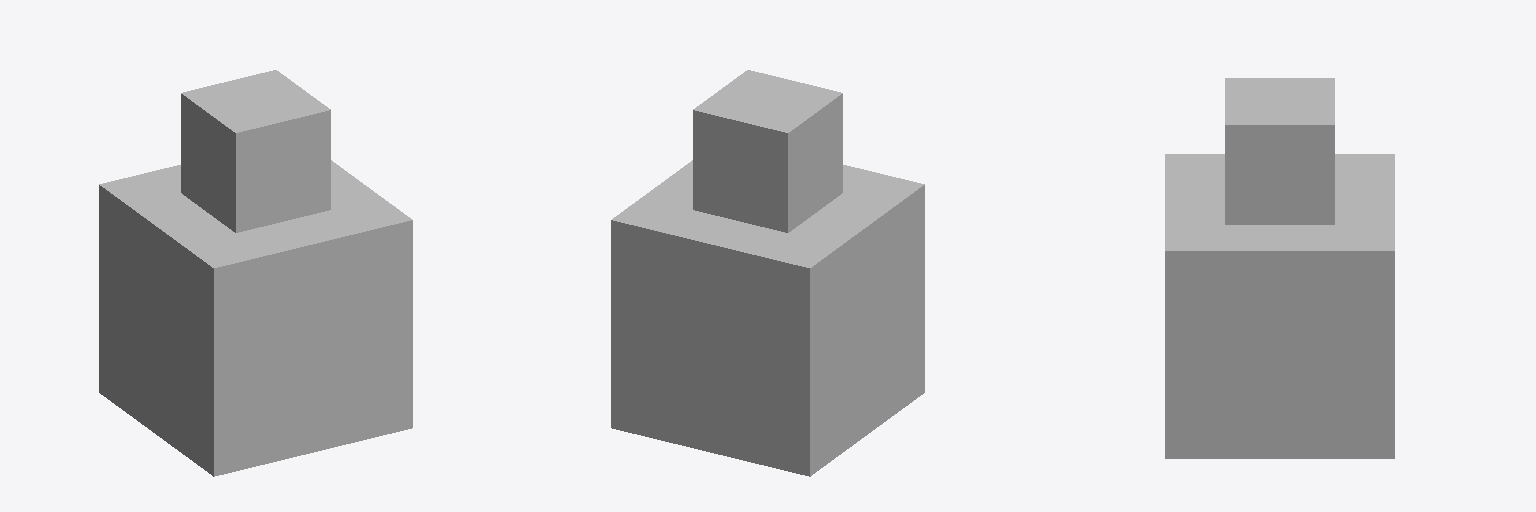
The model's file is relation_test.obj.
3 renders of one model, left to right at view 1: azimuth 30°, elevation 25°; view 2: azimuth 150°, elevation 25°; view 3: azimuth 270°, elevation 25°, orthographic.
Visible parts, largest first — view 1: {"parent":"root","physics":true,"meshType":"box"}_Cube, {"name":"cbox","parent":"pbox","physics":true,"meshType":"box"}_; view 2: {"parent":"root","physics":true,"meshType":"box"}_Cube, {"name":"cbox","parent":"pbox","physics":true,"meshType":"box"}_; view 3: {"parent":"root","physics":true,"meshType":"box"}_Cube, {"name":"cbox","parent":"pbox","physics":true,"meshType":"box"}_.
Part boxes in pixels (x1,y1,x2,y2): {"parent":"root","physics":true,"meshType":"box"}_Cube: (99,160,412,476); {"name":"cbox","parent":"pbox","physics":true,"meshType":"box"}_: (181,70,330,232); {"parent":"root","physics":true,"meshType":"box"}_Cube: (611,160,924,476); {"name":"cbox","parent":"pbox","physics":true,"meshType":"box"}_: (693,70,842,232); {"parent":"root","physics":true,"meshType":"box"}_Cube: (1165,154,1394,458); {"name":"cbox","parent":"pbox","physics":true,"meshType":"box"}_: (1225,78,1334,224).
Size of the model in its own units: 2 by 2.97 by 2.